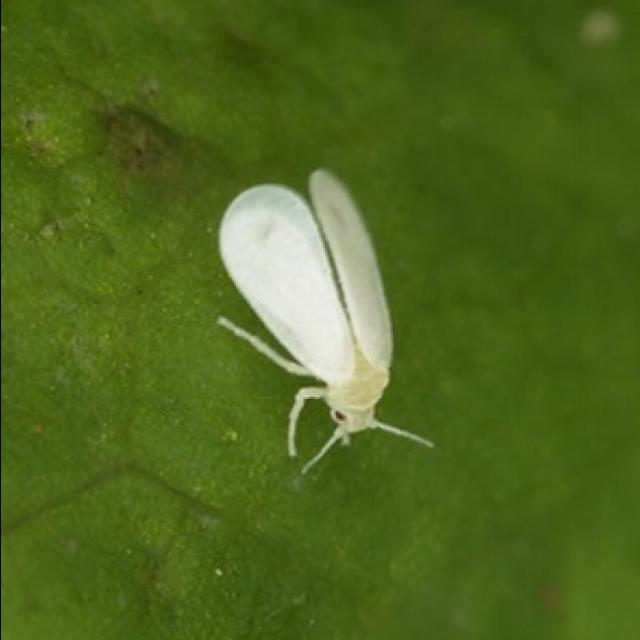Whitefly: (188, 144, 447, 476)
